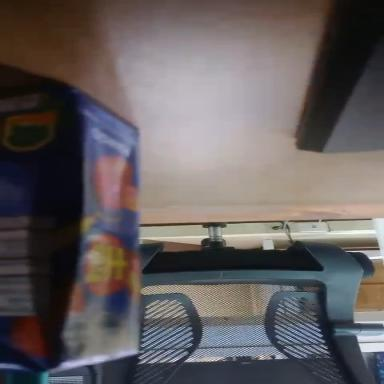HIT-MANGO: (0, 80, 139, 371)
